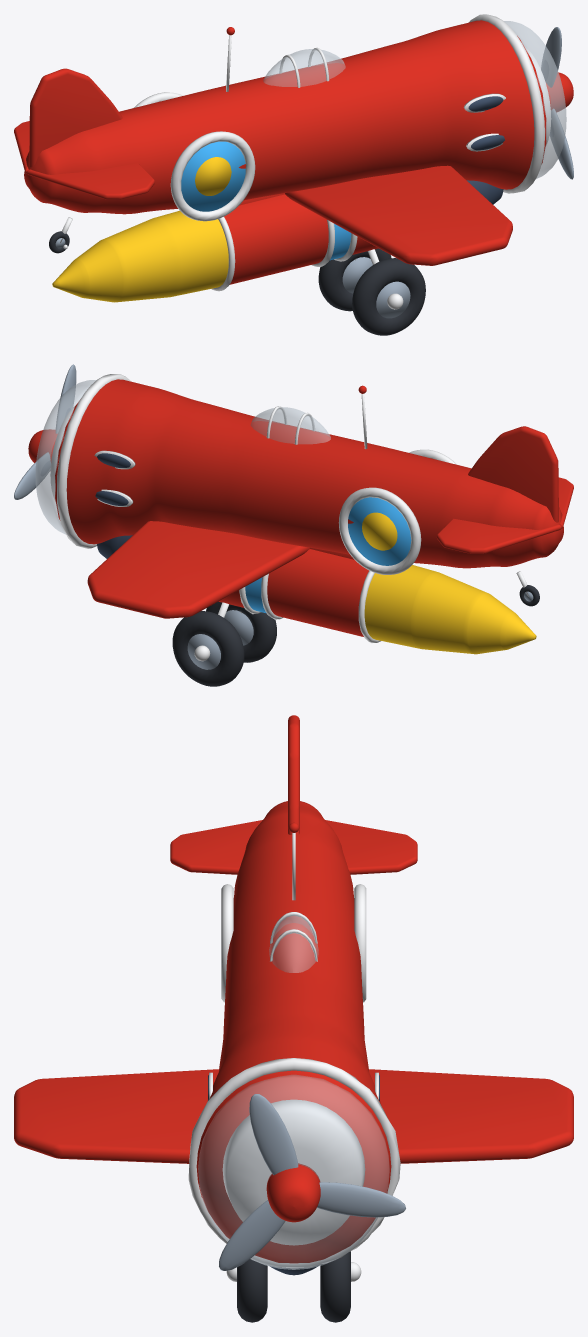
File: sirocco.glb
The picture shows the model from 3 angles, top to bottom: view 1: azimuth 30°, elevation 25°; view 2: azimuth 150°, elevation 25°; view 3: azimuth 270°, elevation 25°; orthographic projection. The views are drawn at different scales.
Visible parts, largest first — view 1: body 0, wing.002, pod 0, pod 1, fin, Torus.009, nose glass, wing, Torus.007, Cylinder.001, Torus, canopy (+12 smaller); view 2: body 0, wing.003, pod 0, pod 1, fin, Torus.010, nose glass, wing.001, Torus.008, Cylinder.002, Torus, canopy (+11 smaller); view 3: body 0, nose glass, wing.003, wing.002, body 1, engine, Torus, wing, wing.001, spinner, blade, blade.002 (+7 smaller).
Part boxes in pixels (<box>): body 0: <box>24,20,534,214</box>; wing.002: <box>285,165,512,265</box>; pod 0: <box>52,210,228,302</box>; pod 1: <box>224,194,328,284</box>; fin: <box>29,68,122,167</box>; Torus.009: <box>352,258,425,335</box>; nose glass: <box>504,21,566,178</box>; wing: <box>26,163,154,199</box>; Torus.007: <box>170,131,255,221</box>; Cylinder.001: <box>181,141,245,211</box>; Torus: <box>469,14,544,193</box>; canopy: <box>263,49,345,86</box>; body 0: <box>66,379,563,568</box>; wing.003: <box>87,521,309,618</box>; pod 0: <box>364,565,536,654</box>; pod 1: <box>267,549,368,636</box>; fin: <box>468,426,558,522</box>; Torus.010: <box>172,611,244,686</box>; nose glass: <box>35,380,96,534</box>; wing.001: <box>436,518,561,553</box>; Torus.008: <box>338,487,421,574</box>; Cylinder.002: <box>348,497,411,565</box>; Torus: <box>57,374,130,548</box>; canopy: <box>251,407,330,443</box>; body 0: <box>209,801,381,1105</box>; nose glass: <box>198,1075,389,1269</box>; wing.003: <box>369,1069,573,1163</box>; wing.002: <box>14,1069,218,1163</box>; body 1: <box>196,1070,391,1263</box>; engine: <box>222,1099,365,1245</box>; Torus: <box>188,1058,400,1267</box>; wing: <box>170,820,262,874</box>; wing.001: <box>325,820,417,874</box>; spinner: <box>266,1163,320,1222</box>; blade: <box>249,1094,298,1175</box>; blade.002: <box>317,1182,405,1217</box>.
Bounding box in the file's own units: 5.99 × 3.46 × 4.3.
